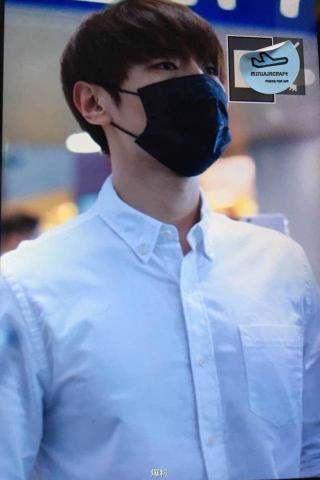face_mask: (118, 19, 230, 176)
